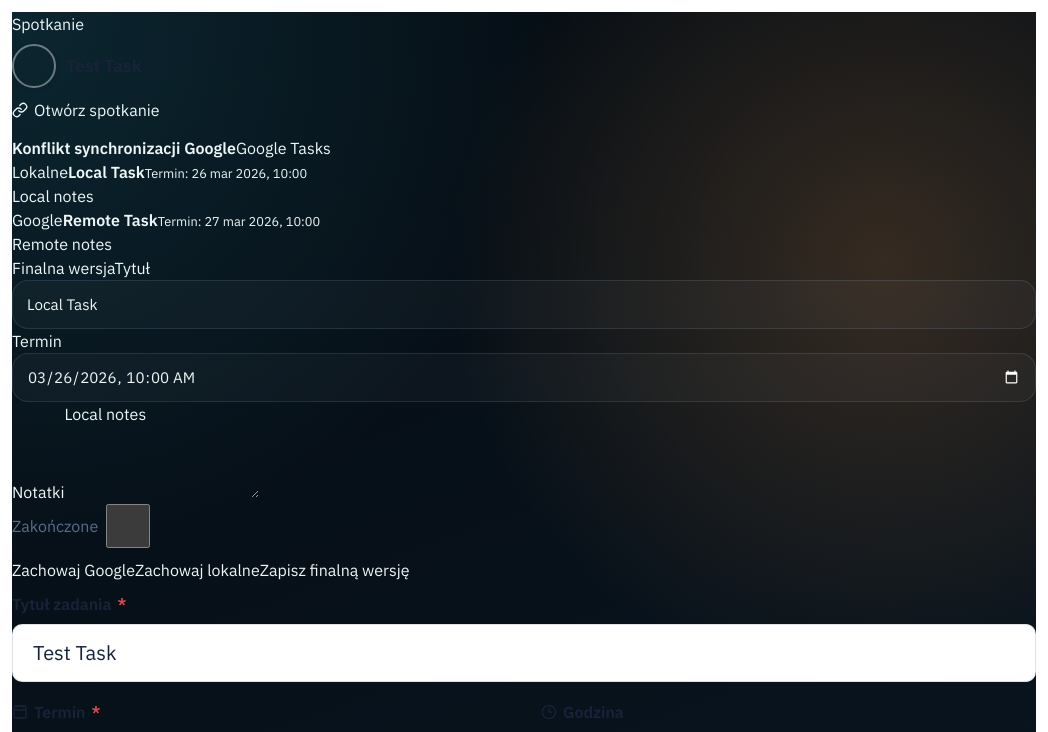
Test: TaskDetailsPanel › Google Sync Conflict Resolution › allows editing final version notes
The width and height of the screenshot is (1048, 732).
Type " Updated" into the text box labelled "Notatki".
click(162, 450); type(" Updated")  # box [64,402,260,498]
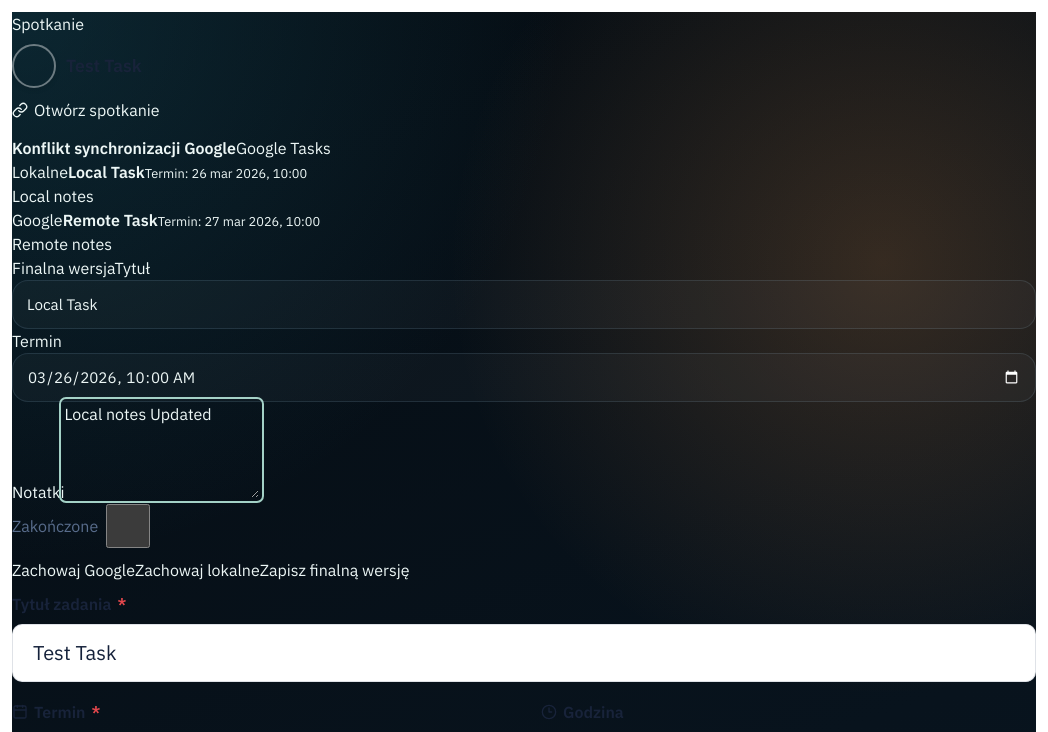
Check: the text box labelled "Notatki" holds "Local notes Updated", box [64,402,260,498]
